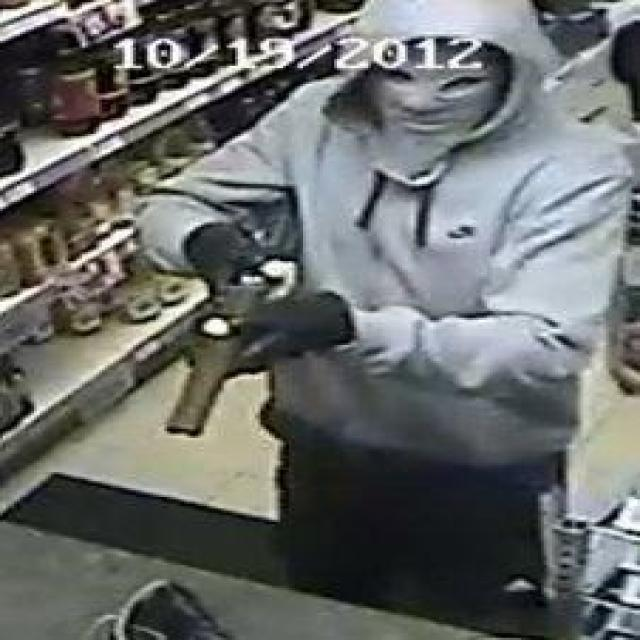gun: (162, 252, 270, 438)
